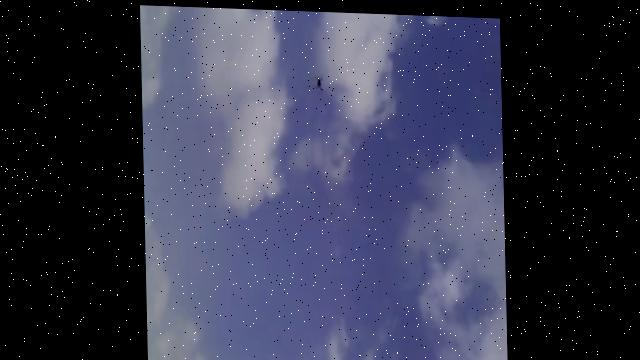drone: (312, 69, 330, 90)
